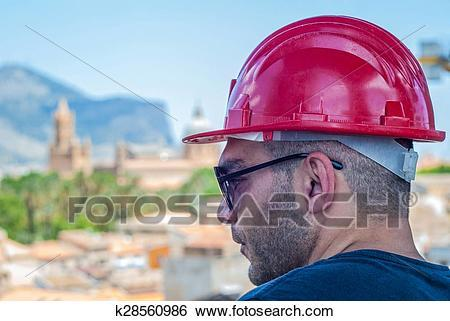helmet: (184, 18, 450, 146)
